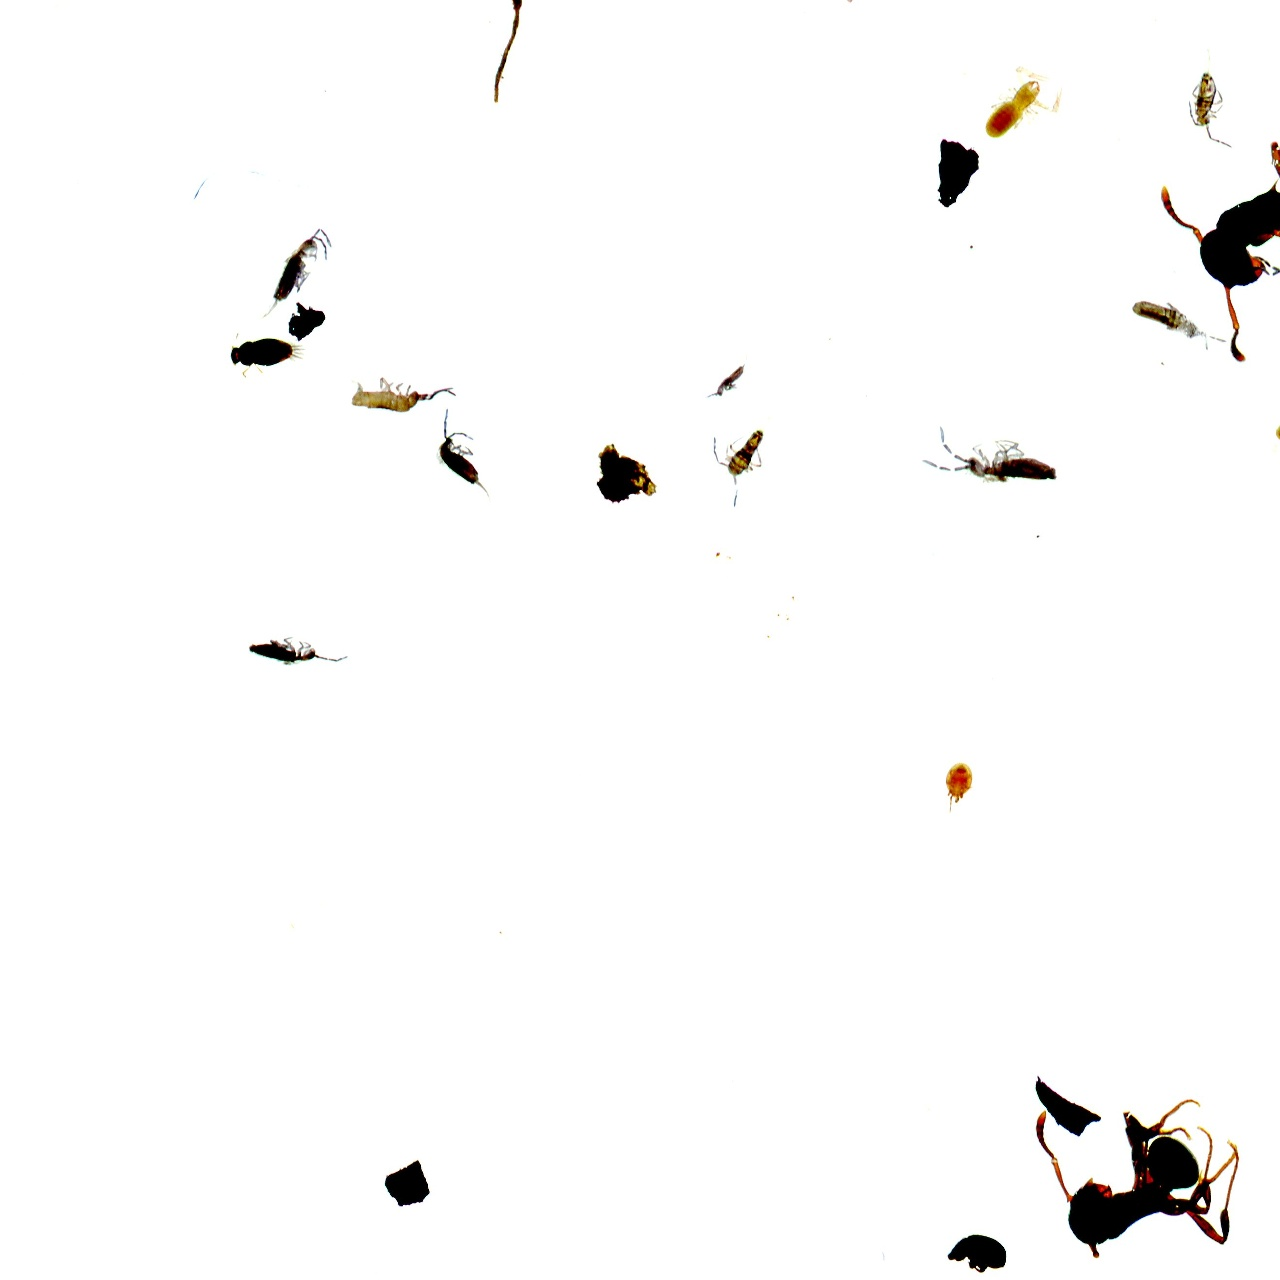arthropod: (1090, 29, 1280, 388), (1021, 1089, 1242, 1271), (965, 53, 1075, 164), (254, 213, 343, 333), (920, 423, 1062, 488), (1123, 288, 1235, 359), (425, 403, 499, 499), (338, 370, 463, 417), (236, 628, 355, 669), (225, 328, 312, 384), (712, 423, 767, 509), (1186, 67, 1235, 155), (946, 1232, 1009, 1276), (704, 354, 750, 400), (945, 761, 975, 815), (1267, 238, 1280, 293)
